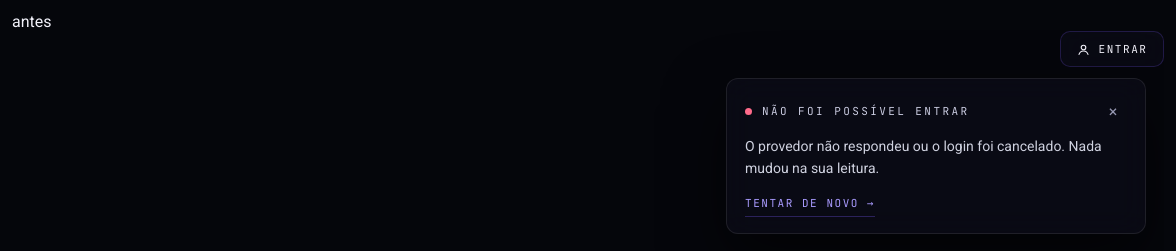
Test: volta do login › ?login=failed mostra o aviso; dispensar tira o parâmetro e mantém o resto
The width and height of the screenshot is (1176, 251).
Expected: the message shows "NÃO FOI POSSÍVEL ENTRAR", [762, 104, 970, 118]
Click the button named "Dispensar" at (1113, 111), box [1099, 97, 1127, 125]
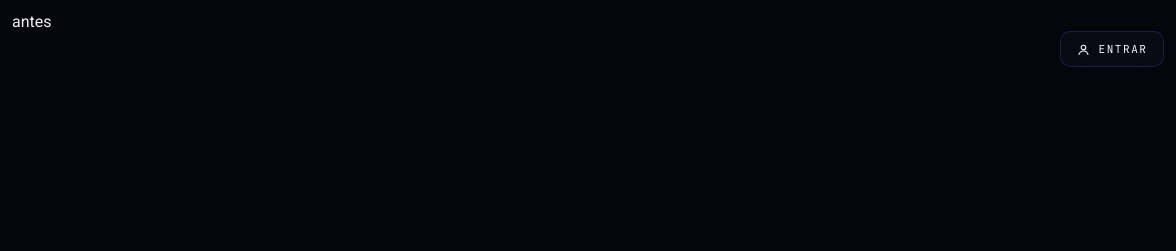
Result: the message is gone
